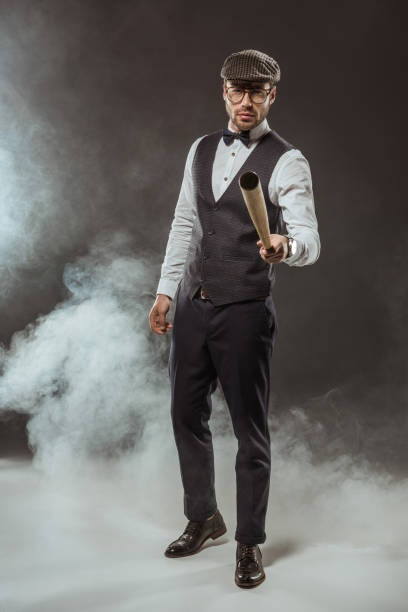bita: (234, 162, 282, 274)
